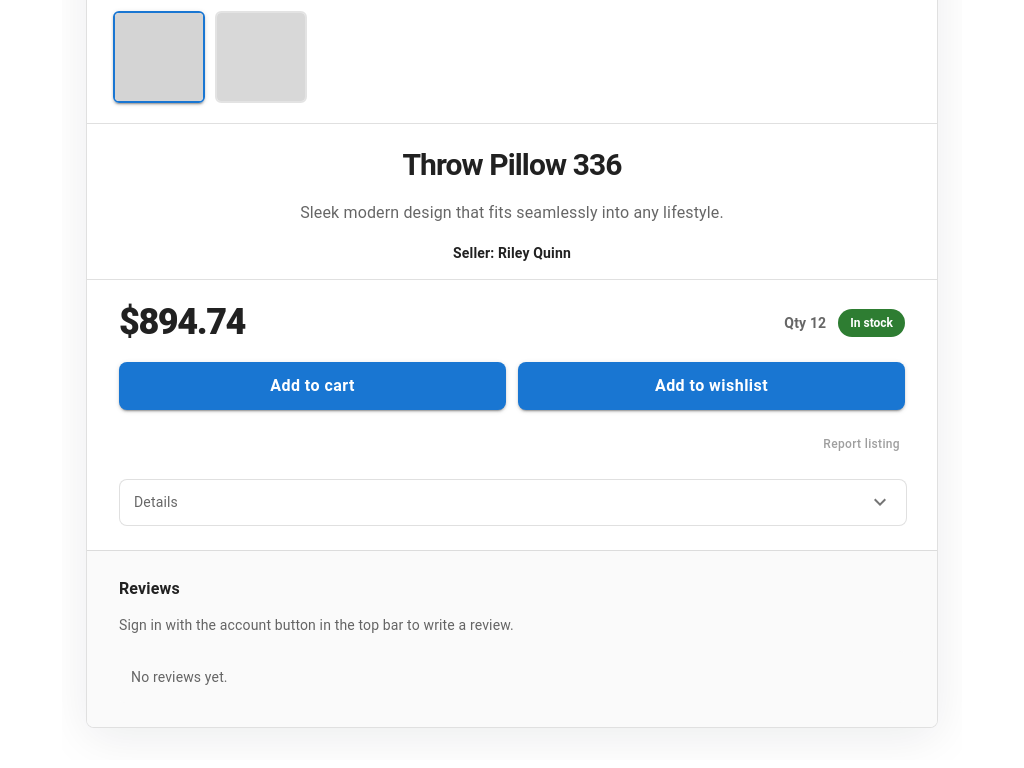
Test case: adds the item to the wishlist when Add to wishlist is clicked
The width and height of the screenshot is (1024, 768).
(page scrolled)
Click the button "Add to wishlist" at [712, 386], box left=518, top=362, right=905, bottom=410
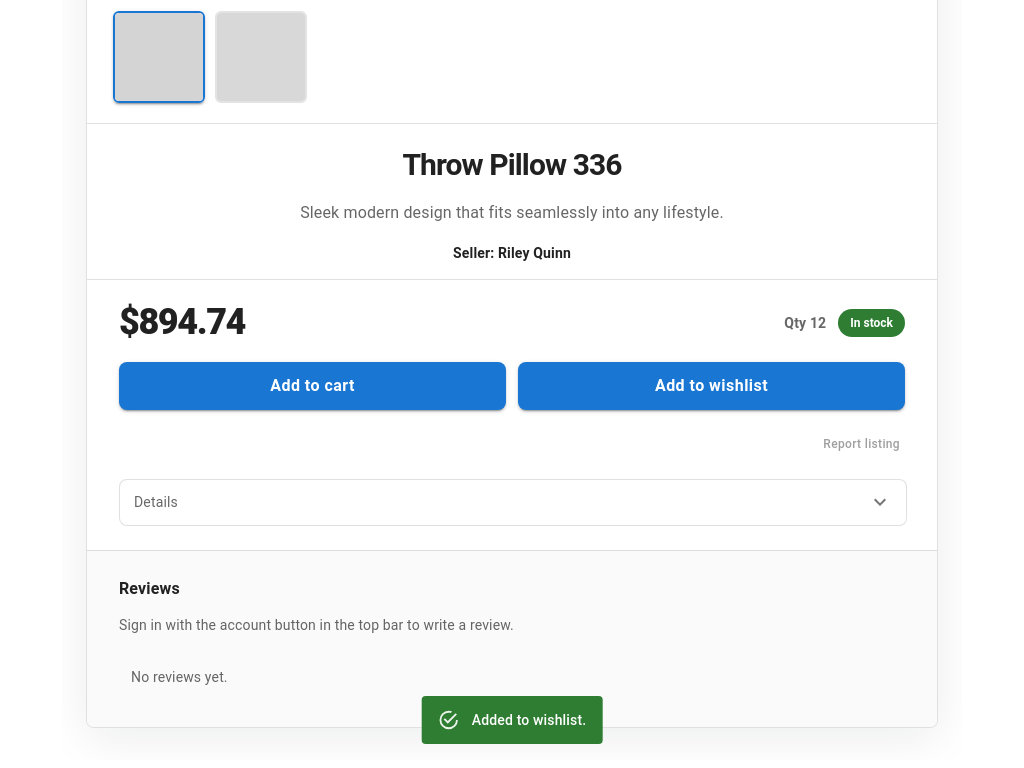
Expected: the message labelled "Added to wishlist." is shown, left=422, top=696, right=602, bottom=744
